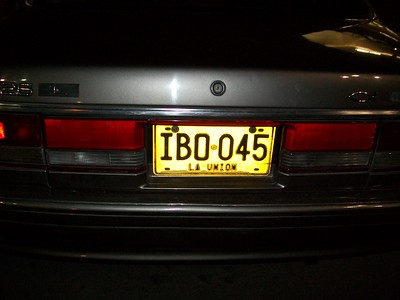placa_carro: (144, 110, 285, 195)
